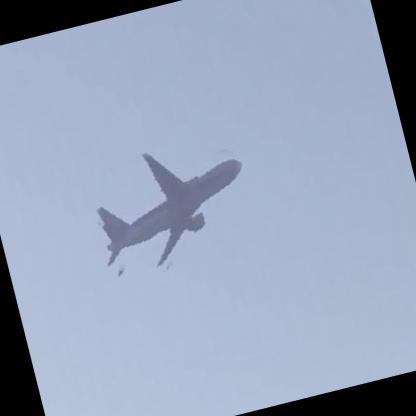plane: (79, 128, 263, 290)
